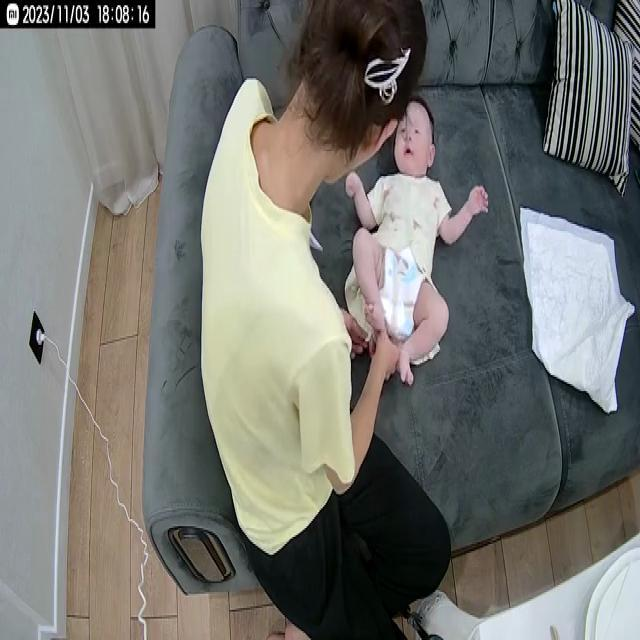baby: (343, 92, 491, 398)
